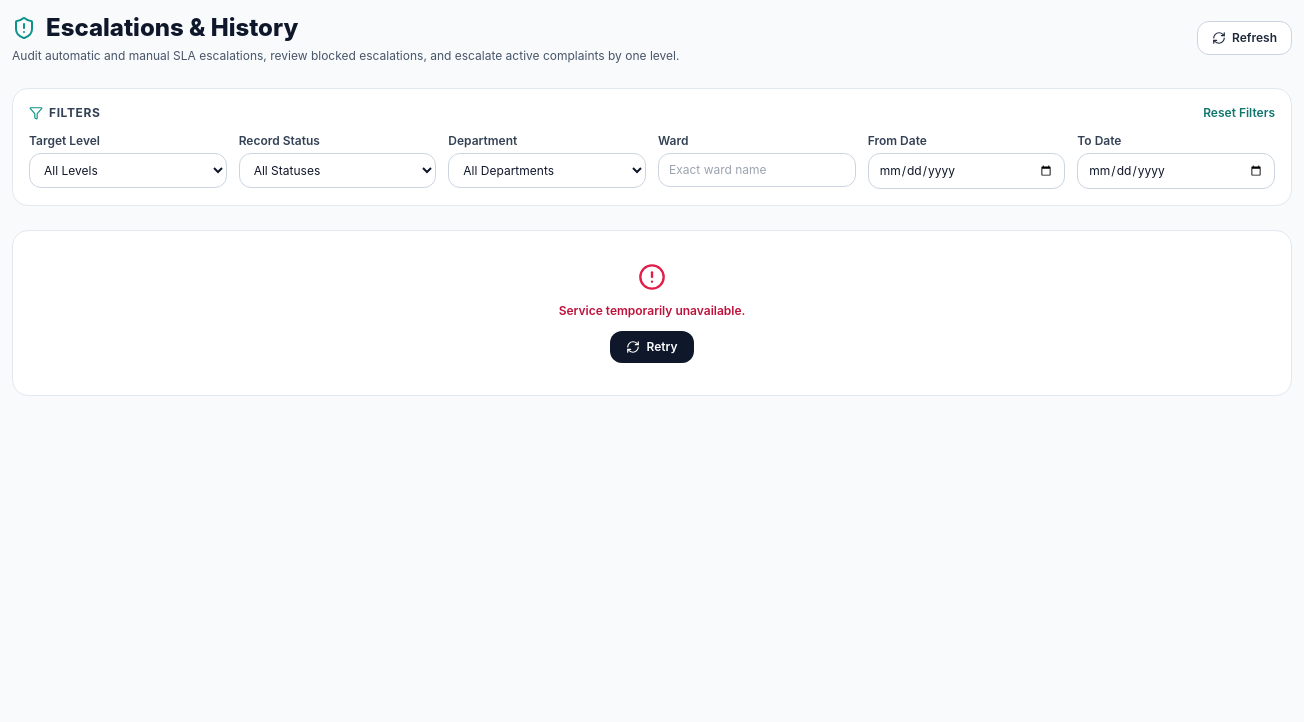
Phase 7.3 Unit & Mocked Integration Tests › renders escalations list, history panel, validates reason, and prevents duplicate manual escalation submit
Expected: the text "Service temporarily unavailable." is shown, top-left (559, 303), bottom-right (745, 318)
Click the button "Retry" at (652, 347), box top-left (610, 331), bottom-right (694, 363)
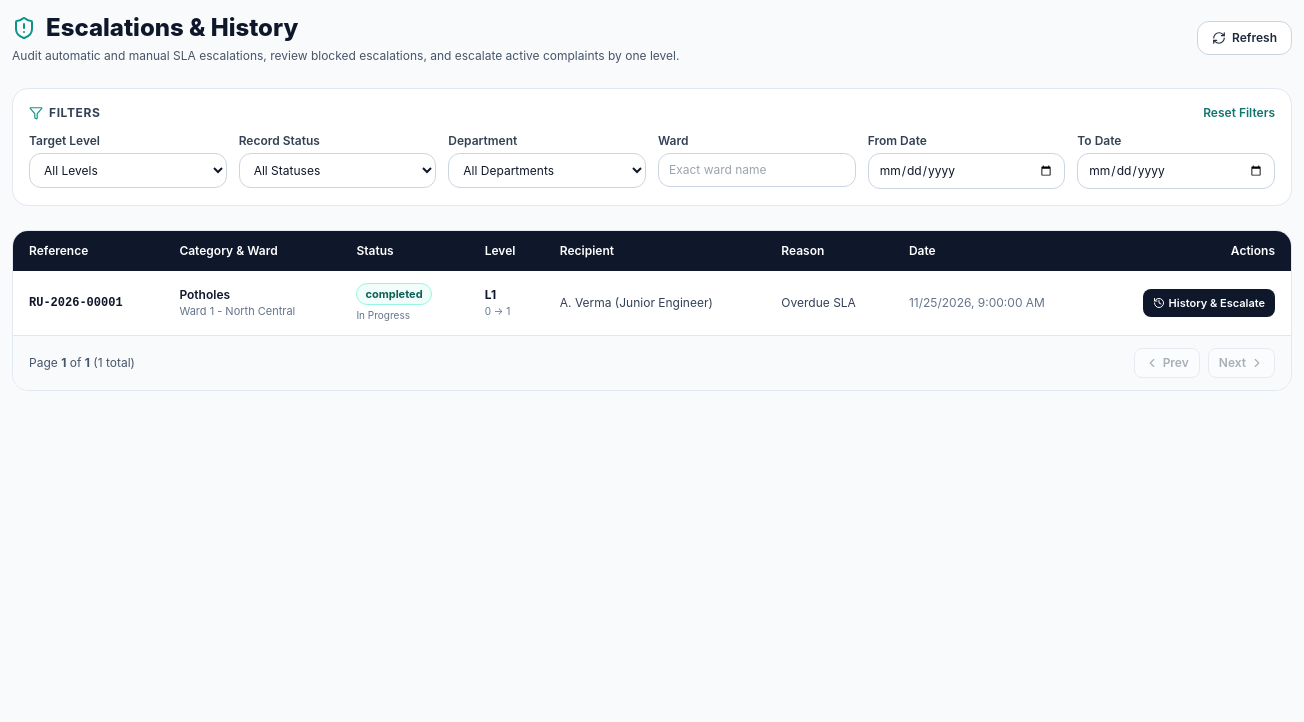
Expected: the text "RU-2026-00001" is shown, top-left (13, 271), bottom-right (163, 335)
Click the button "History & Escalate" at (1209, 303), box top-left (1142, 289), bottom-right (1275, 317)
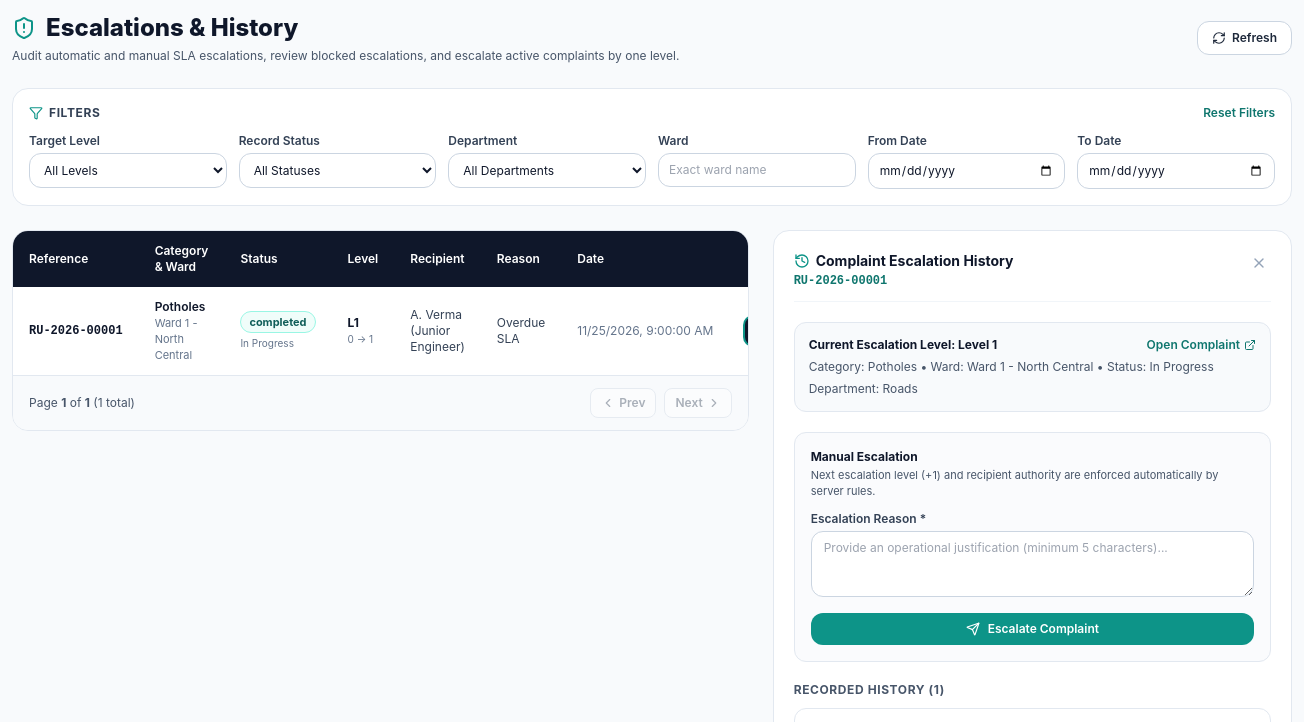
Expected: the text "Current Escalation Level: Level 1" is shown, top-left (809, 337), bottom-right (997, 353)
# Invalid short reason
Type "abc" into the text box labelled "Escalation Reason *" at (1032, 564), box top-left (811, 531), bottom-right (1254, 597)
Click the button "Escalate Complaint" at (1032, 629), box top-left (811, 613), bottom-right (1254, 645)
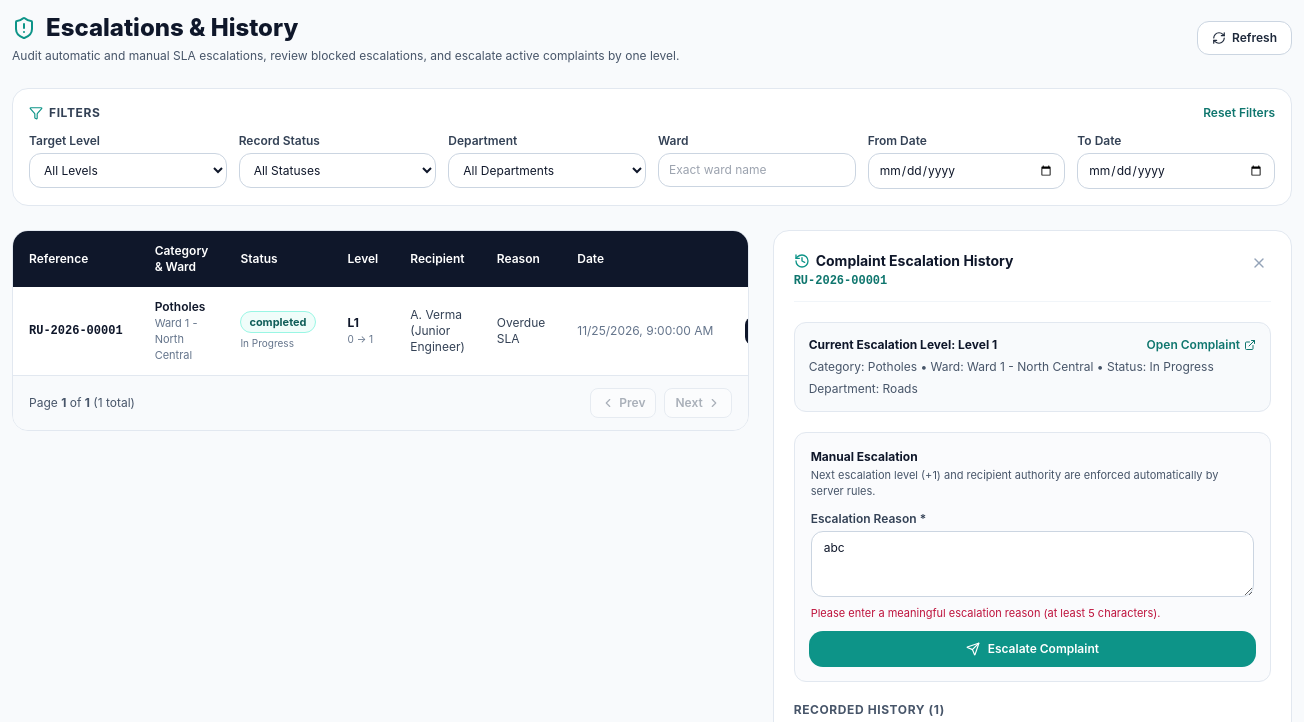
Expected: the text "at least 5 characters" is shown, top-left (811, 606), bottom-right (1160, 620)
# Double click prevention during in-flight escalation
Replace the text in the text box labelled "Escalation Reason *" with "Manual intervention requested" at (1032, 564), box top-left (811, 531), bottom-right (1254, 597)
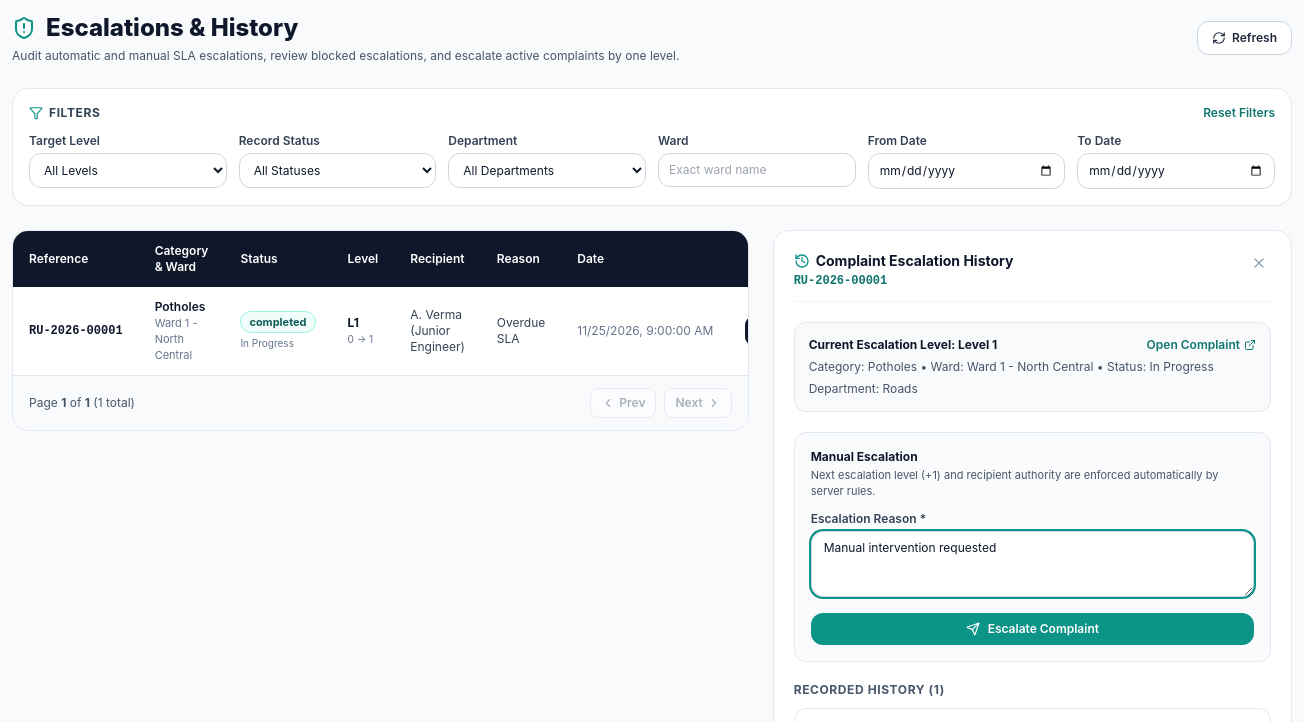
Click the button "Escalate Complaint" at (1032, 629), box top-left (811, 613), bottom-right (1254, 645)
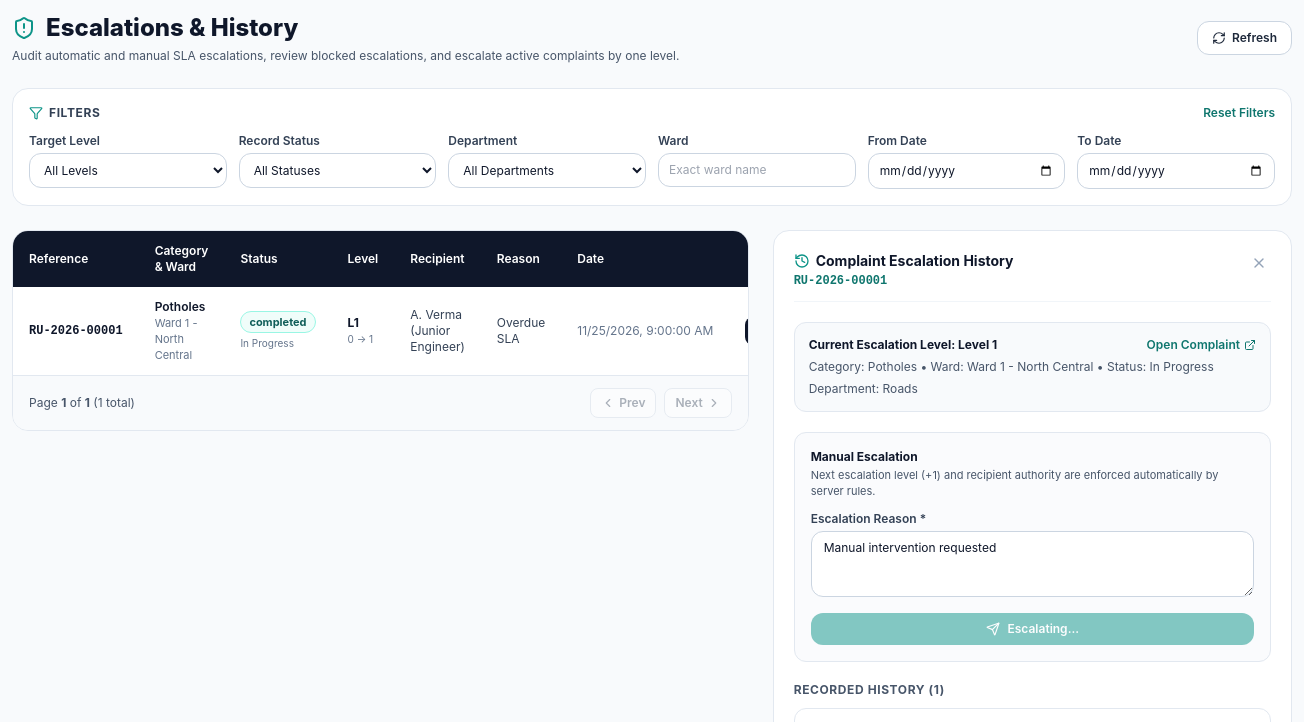
Click the button named "Escalate Complaint" at (1032, 629), box top-left (811, 613), bottom-right (1254, 645)
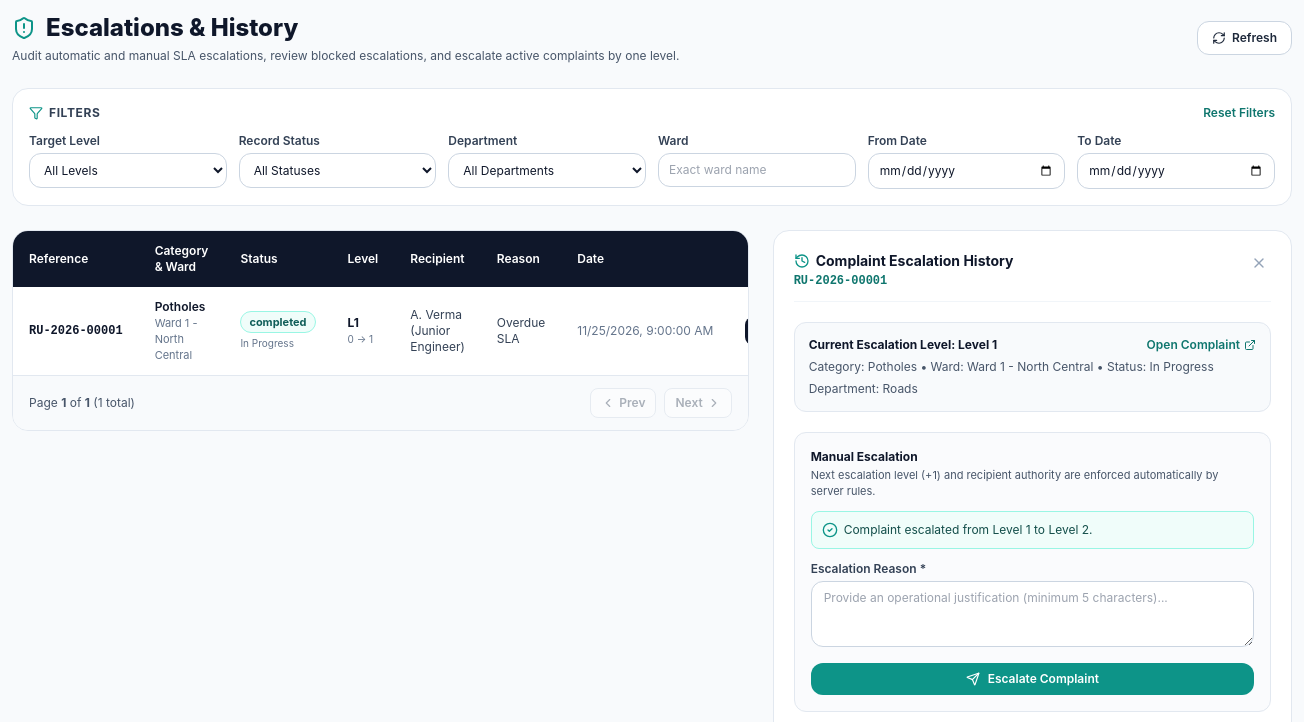
Expected: the text "Complaint escalated from Level 1 to Level 2." is shown, top-left (844, 522), bottom-right (1093, 538)
